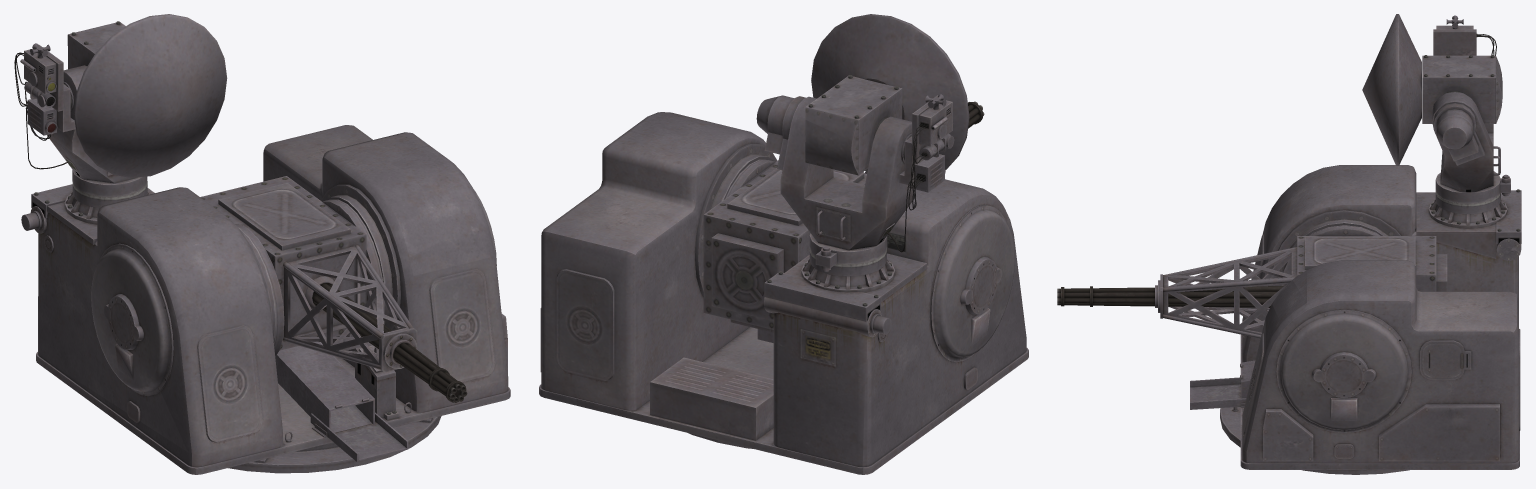
The model's file is type-730_ciws.glb.
3 renders of one model, left to right at view 1: azimuth 30°, elevation 25°; view 2: azimuth 150°, elevation 25°; view 3: azimuth 270°, elevation 25°, orthographic. The views are drawn at different scales.
Parts seen in each view (by area): view 1: CH_CIWS_LD_2000_M003, CH_CIWS_LD_2000_M006, CH_CIWS_LD_2000_M002, CH_CIWS_LD_2000_M004; view 2: CH_CIWS_LD_2000_M003, CH_CIWS_LD_2000_M004, CH_CIWS_LD_2000_M002, CH_CIWS_LD_2000_M006; view 3: CH_CIWS_LD_2000_M003, CH_CIWS_LD_2000_M006, CH_CIWS_LD_2000_M002, CH_CIWS_LD_2000_M004.
Boxes of the visible parts, box(x1,y1,x2,y2) form: CH_CIWS_LD_2000_M003: box(21, 125, 510, 474); CH_CIWS_LD_2000_M006: box(200, 176, 467, 432); CH_CIWS_LD_2000_M002: box(67, 14, 227, 177); CH_CIWS_LD_2000_M004: box(14, 43, 147, 196); CH_CIWS_LD_2000_M003: box(539, 112, 1028, 474); CH_CIWS_LD_2000_M004: box(756, 94, 954, 271); CH_CIWS_LD_2000_M002: box(805, 14, 969, 175); CH_CIWS_LD_2000_M006: box(703, 101, 984, 342); CH_CIWS_LD_2000_M003: box(1190, 165, 1521, 474); CH_CIWS_LD_2000_M006: box(1057, 225, 1447, 398); CH_CIWS_LD_2000_M002: box(1362, 14, 1502, 165); CH_CIWS_LD_2000_M004: box(1432, 15, 1510, 203).
Bounding box in the file's own units: 0.1195 × 0.123 × 0.1484.
2 materials, 2 textured.
